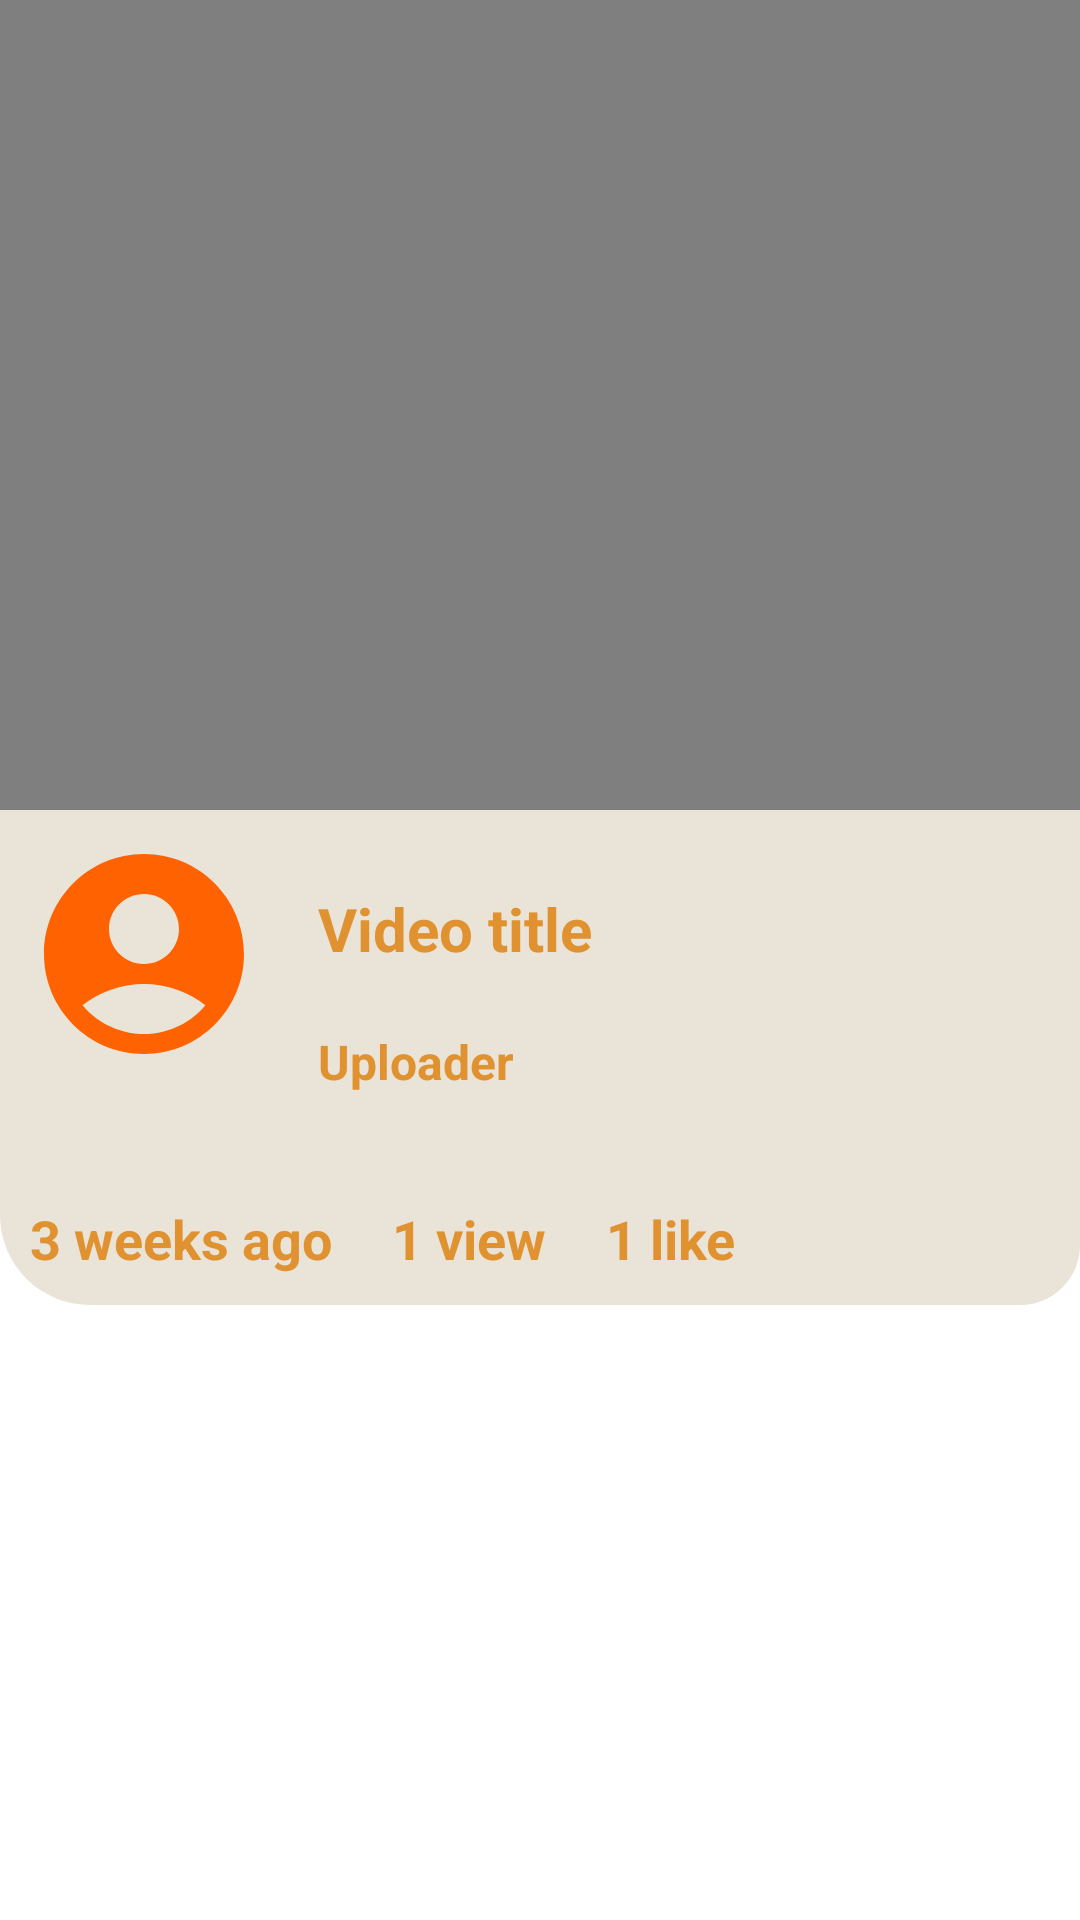

Locate icon controls on the screen. Image size 1080*1920, boxes as (x1, y1, x2, y2).
profile picture: (44, 854, 244, 1054)
